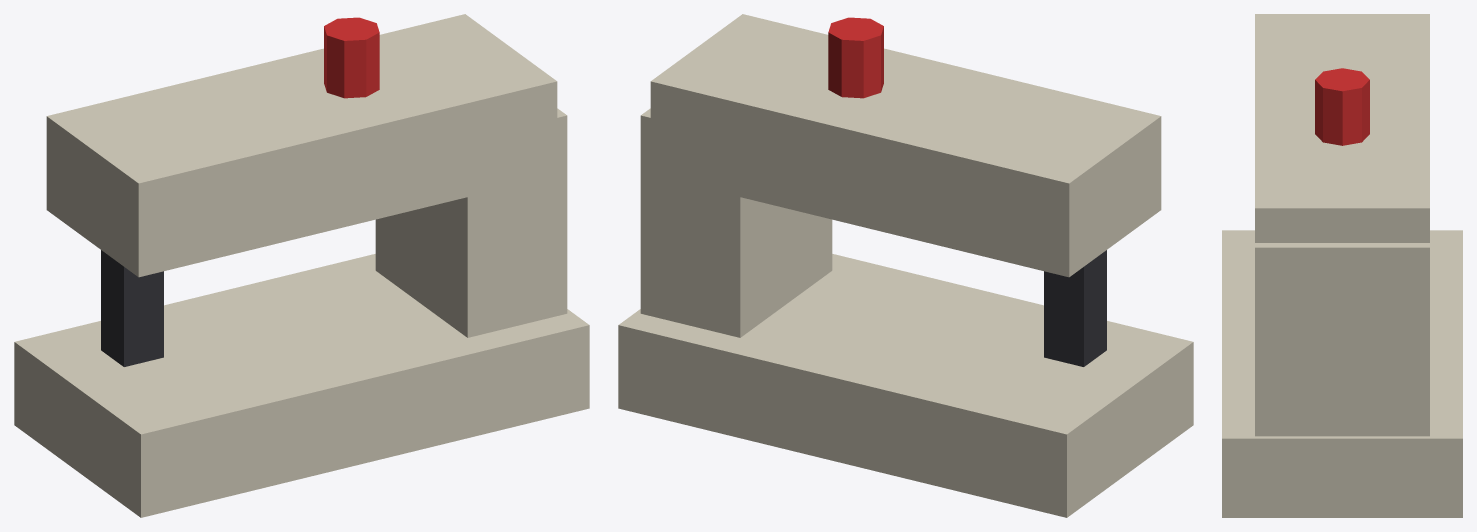
File: embroidery_machine.glb
3 views of the same model, side by side, from view 1: azimuth 30°, elevation 25°; view 2: azimuth 150°, elevation 25°; view 3: azimuth 270°, elevation 25° (orthographic). The views are drawn at different scales.
Parts seen in each view (by area): view 1: arm_machine_body, base_machine_body, arm_machine_dark, thread_thread_red; view 2: arm_machine_body, base_machine_body, arm_machine_dark, thread_thread_red; view 3: arm_machine_body, base_machine_body, thread_thread_red.
Part boxes in pixels (<box>): arm_machine_body: <box>46,14,567,337</box>; base_machine_body: <box>14,254,589,517</box>; arm_machine_dark: <box>101,250,163,366</box>; thread_thread_red: <box>324,17,379,98</box>; arm_machine_body: <box>640,14,1161,337</box>; base_machine_body: <box>618,254,1193,517</box>; arm_machine_dark: <box>1044,250,1106,366</box>; thread_thread_red: <box>828,17,883,98</box>; arm_machine_body: <box>1255,14,1429,436</box>; base_machine_body: <box>1222,230,1462,517</box>; thread_thread_red: <box>1315,68,1369,145</box>.
Size of the model in its own units: 0.45 by 0.36 by 0.22.
